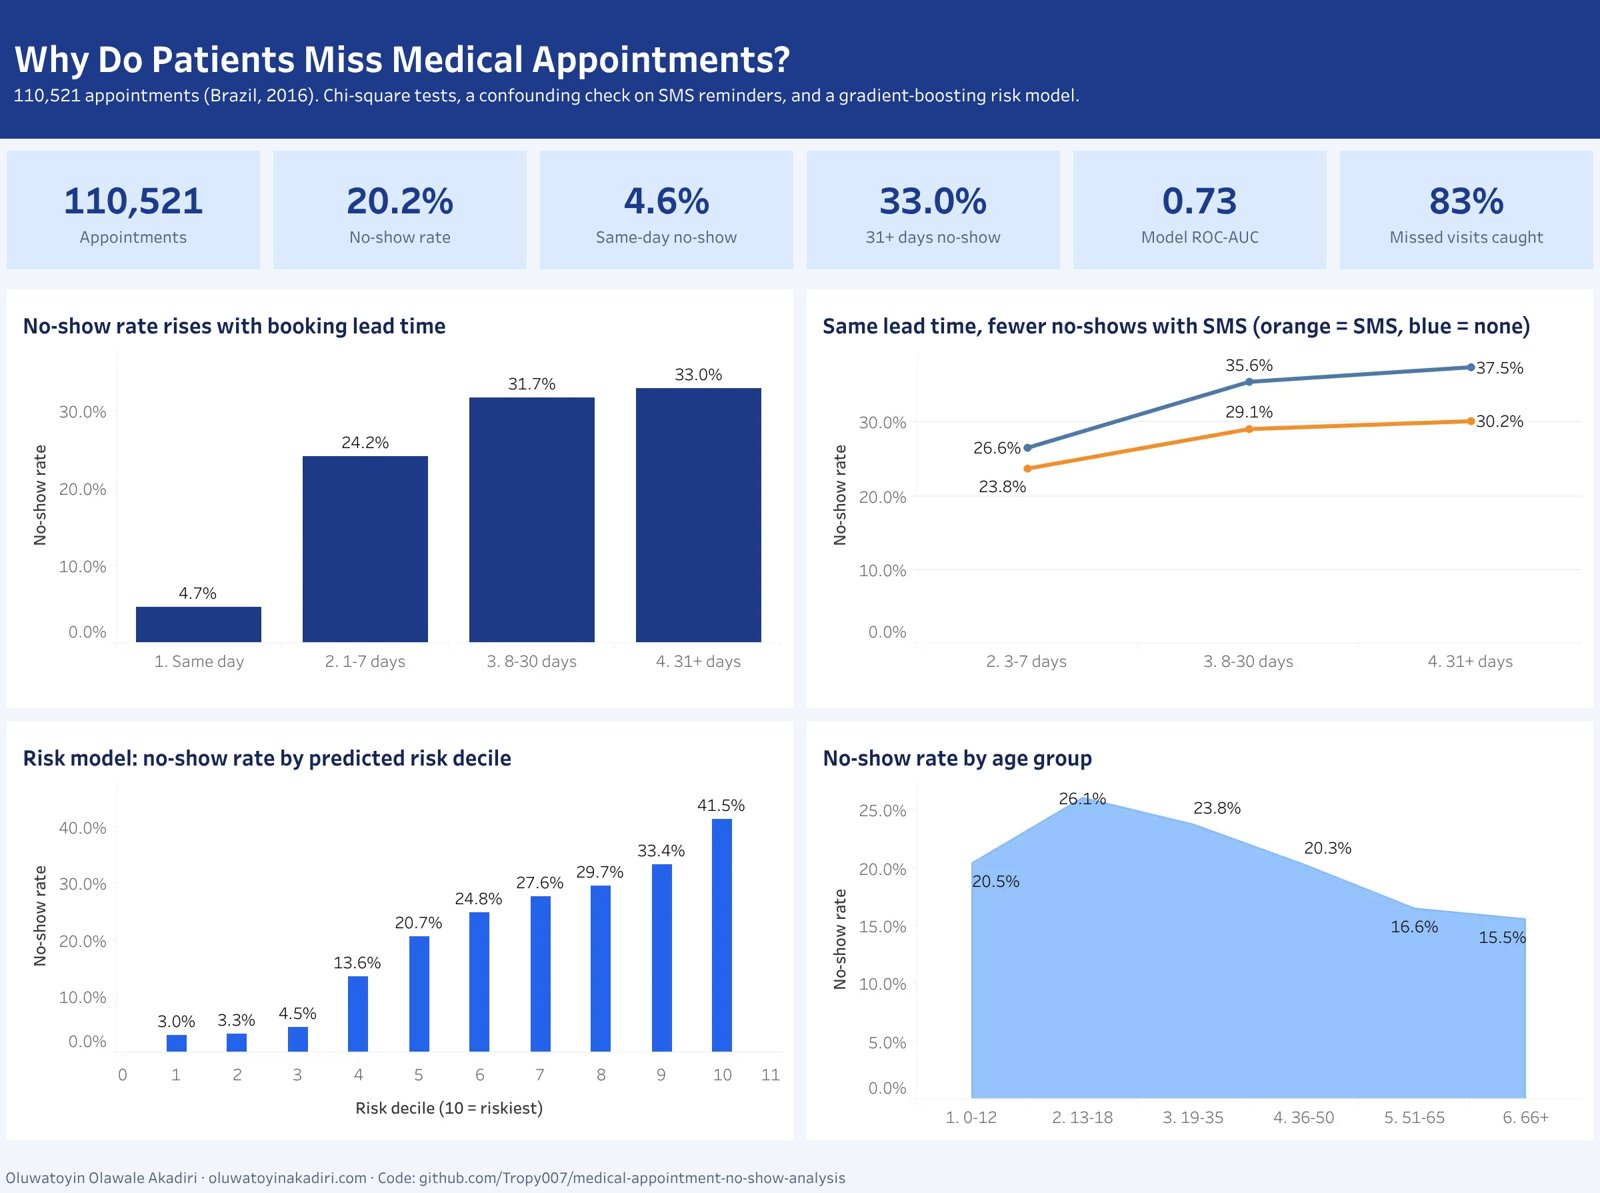

This screenshot's page, from the dashboard's own definition file:
{"tool":"tableau","page":{"name":"Appointment No-Shows","canvas":[1200,900],"ordinal":0},"visuals":[{"type":"text","box":[0,0,1200,103.5]},{"type":"text","box":[0,108,200,99]},{"type":"text","box":[200,108,200,99]},{"type":"text","box":[400,108,200,99]},{"type":"text","box":[600,108,200,99]},{"type":"text","box":[800,108,200,99]},{"type":"text","box":[1000,108,200,99]},{"type":"worksheet","title":"By lead time","mark":"Bar","rows":["No-show rate"],"cols":["Booking lead time"],"box":[0,211.5,600,324]},{"type":"worksheet","title":"SMS paradox","mark":"Line","rows":["No-show rate"],"cols":["Booking lead time"],"box":[600,211.5,600,324]},{"type":"worksheet","title":"Risk deciles","mark":"Bar","rows":["No-show rate"],"cols":["Risk decile (10 = riskiest)"],"box":[0,535.5,600,324]},{"type":"worksheet","title":"By age","mark":"Area","rows":["No-show rate"],"cols":["Age group"],"box":[600,535.5,600,324]},{"type":"text","box":[0,864,1200,36]}]}

Visuals, with their boxes in screenshot pixels (x1, y1, x2, y2), scaled from the page's 1200x900 canvas onto the 1600x1193 screenshot:
text: {"left": 0, "top": 0, "right": 1599, "bottom": 137}
text: {"left": 0, "top": 143, "right": 267, "bottom": 274}
text: {"left": 267, "top": 143, "right": 533, "bottom": 274}
text: {"left": 533, "top": 143, "right": 800, "bottom": 274}
text: {"left": 800, "top": 143, "right": 1067, "bottom": 274}
text: {"left": 1067, "top": 143, "right": 1333, "bottom": 274}
text: {"left": 1333, "top": 143, "right": 1599, "bottom": 274}
"By lead time" worksheet (Bar marks): {"left": 0, "top": 280, "right": 800, "bottom": 710}
"SMS paradox" worksheet (Line marks): {"left": 800, "top": 280, "right": 1599, "bottom": 710}
"Risk deciles" worksheet (Bar marks): {"left": 0, "top": 710, "right": 800, "bottom": 1139}
"By age" worksheet (Area marks): {"left": 800, "top": 710, "right": 1599, "bottom": 1139}
text: {"left": 0, "top": 1145, "right": 1599, "bottom": 1192}
